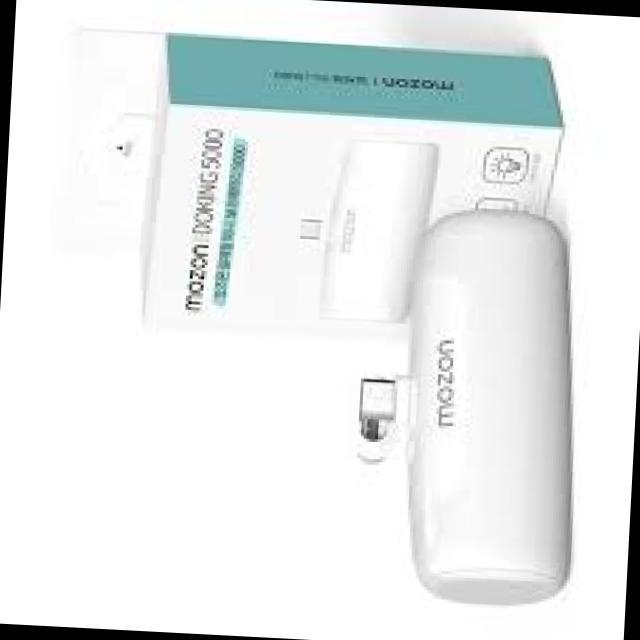portable-charger: (339, 196, 590, 609), (290, 127, 446, 324)
